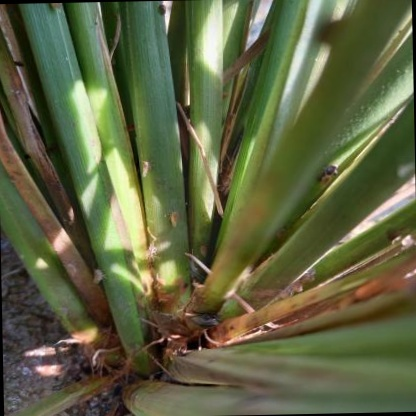Brown_hopper: (313, 175, 334, 193), (136, 160, 154, 179), (166, 208, 182, 229), (60, 261, 77, 278), (90, 267, 106, 285), (195, 246, 208, 258)
